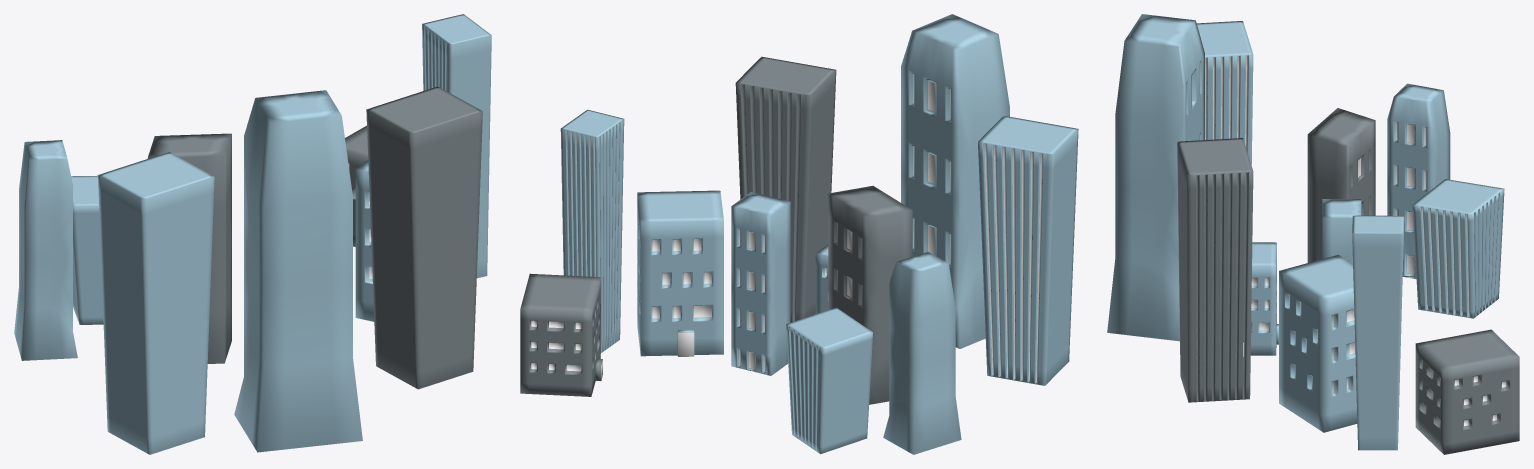
Rendered from outside_city.fbx.
3 renders of one model, left to right at view 1: azimuth 30°, elevation 25°; view 2: azimuth 150°, elevation 25°; view 3: azimuth 270°, elevation 25°, orthographic. The views are drawn at different scales.
Visible parts, largest first — view 1: pCube197; view 2: pCube197; view 3: pCube197.
Part boxes in pixels (left/top/right/bottom): pCube197: left=14, top=14, right=491, bottom=454; pCube197: left=520, top=14, right=1078, bottom=454; pCube197: left=1107, top=14, right=1519, bottom=454.
Bounding box in the file's own units: 453 × 299 × 387.
